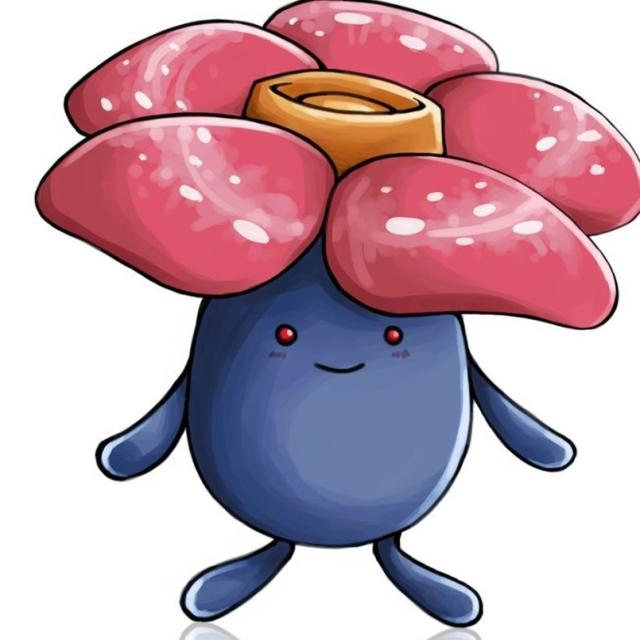Vileplume: (90, 4, 536, 553)
